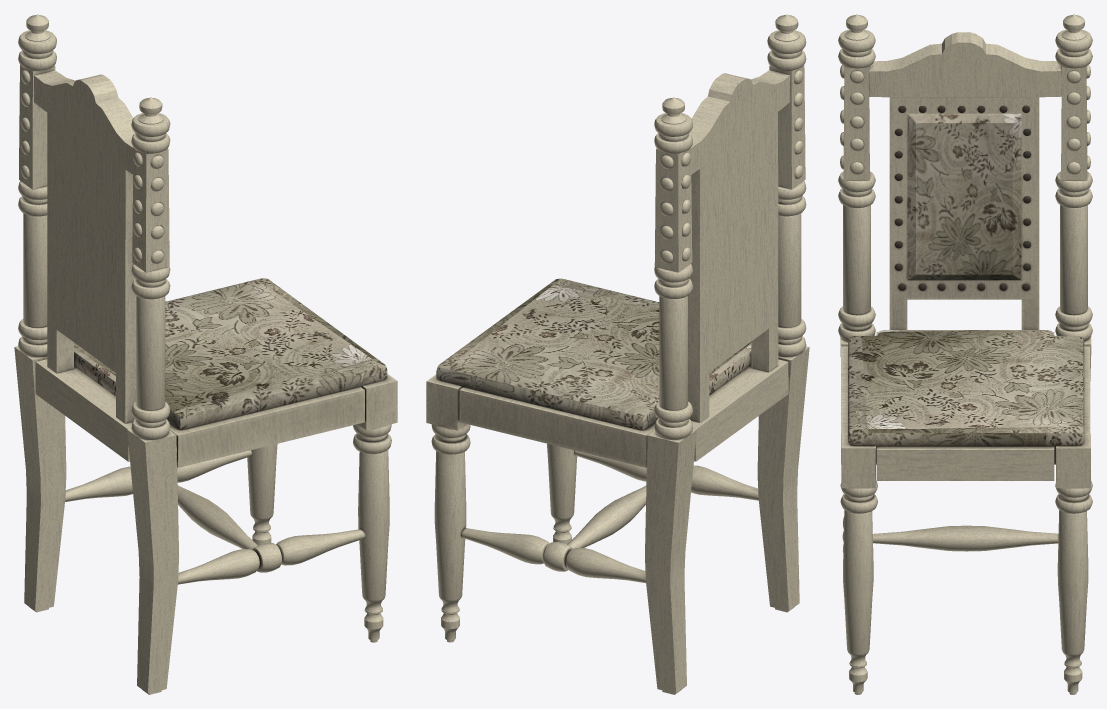
File: SM_Fancy_Chair.fbx
The picture shows the model from 3 angles, left to right: view 1: azimuth 30°, elevation 25°; view 2: azimuth 150°, elevation 25°; view 3: azimuth 270°, elevation 25°; orthographic projection. The views are drawn at different scales.
Parts seen in each view (by area): view 1: SM_Fancy_Chair; view 2: SM_Fancy_Chair; view 3: SM_Fancy_Chair.
Part boxes in pixels (x1,y1,x2,y2): SM_Fancy_Chair: (14, 14, 397, 694); SM_Fancy_Chair: (426, 14, 809, 694); SM_Fancy_Chair: (838, 14, 1092, 694).
Bounding box in the file's own units: 53.61 × 47.97 × 119.
Materials: 1 (1 with a texture image).
